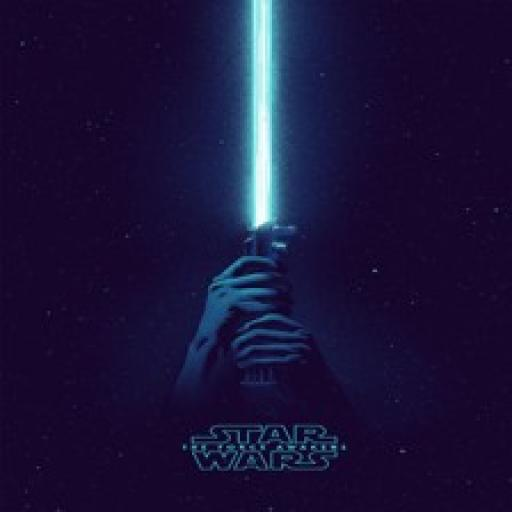lightsaber: (235, 0, 294, 389)
